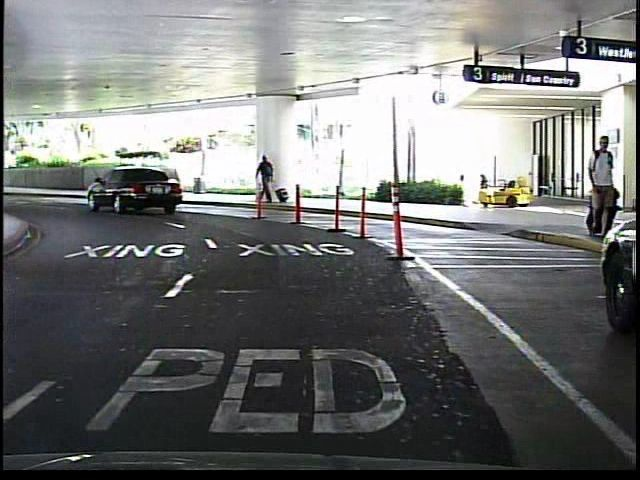person: (581, 129, 621, 245), (255, 151, 280, 207)
